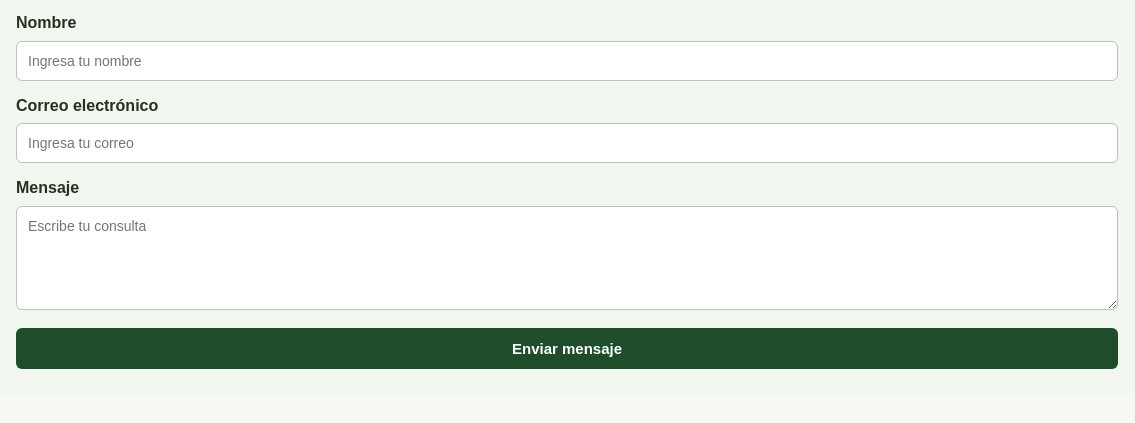
Test case: Formulario de Contacto NutriVida › Valida correctamente y limpia los campos
Type "Ana" into the field labelled "Nombre".
click(567, 61); type("Ana")  # box [16,41,1118,81]
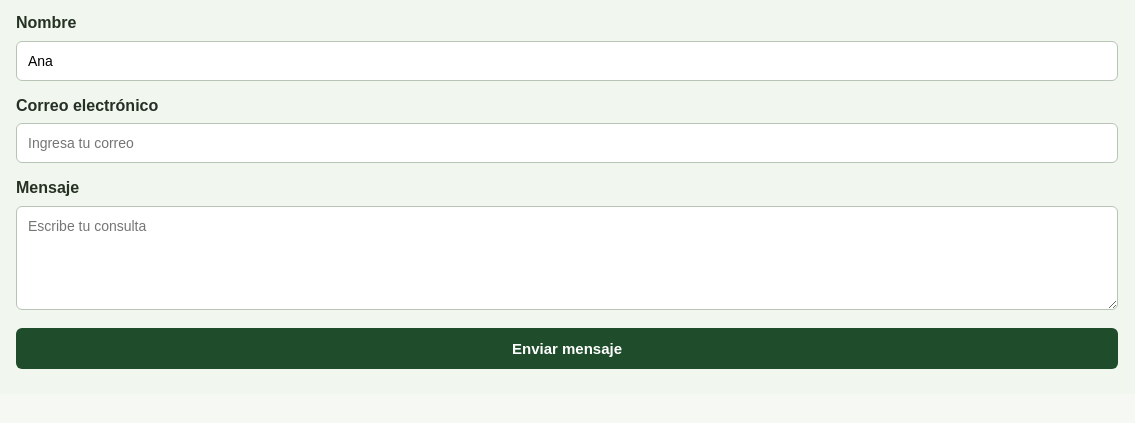
Type "ana@gmail.com" into the field labelled "Correo electrónico".
click(567, 143); type("ana@gmail.com")  # box [16,123,1118,163]
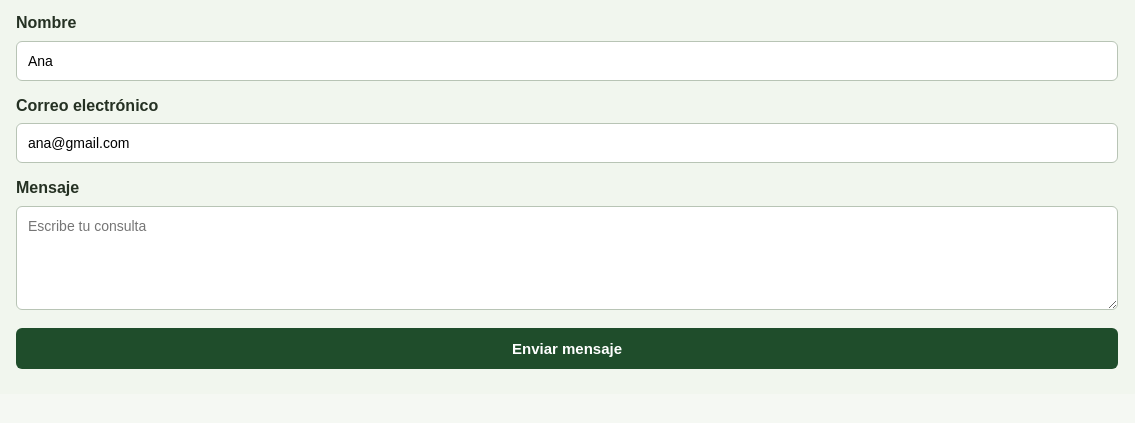
Type "Necesito información" into the text box labelled "Mensaje".
click(567, 258); type("Necesito información")  # box [16,206,1118,310]
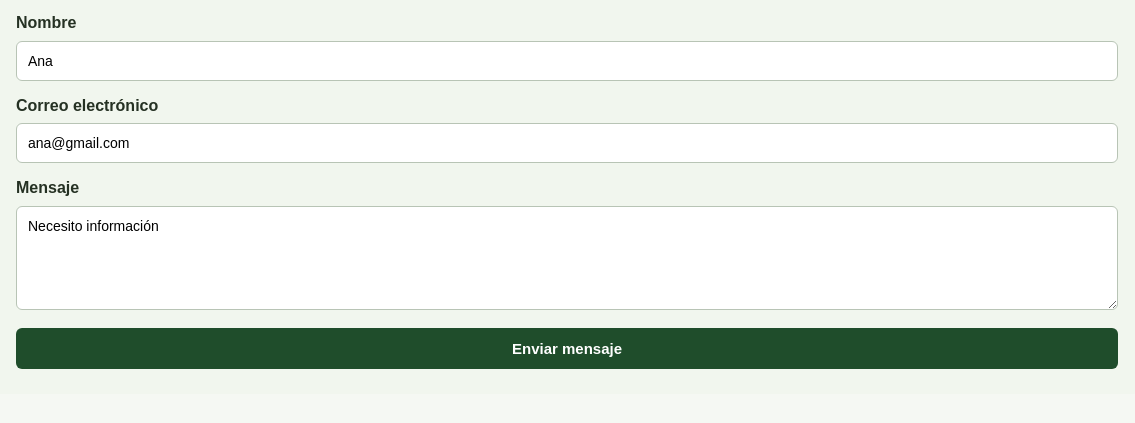
Click the button "Enviar mensaje".
click(567, 348)  # box [16,328,1118,369]
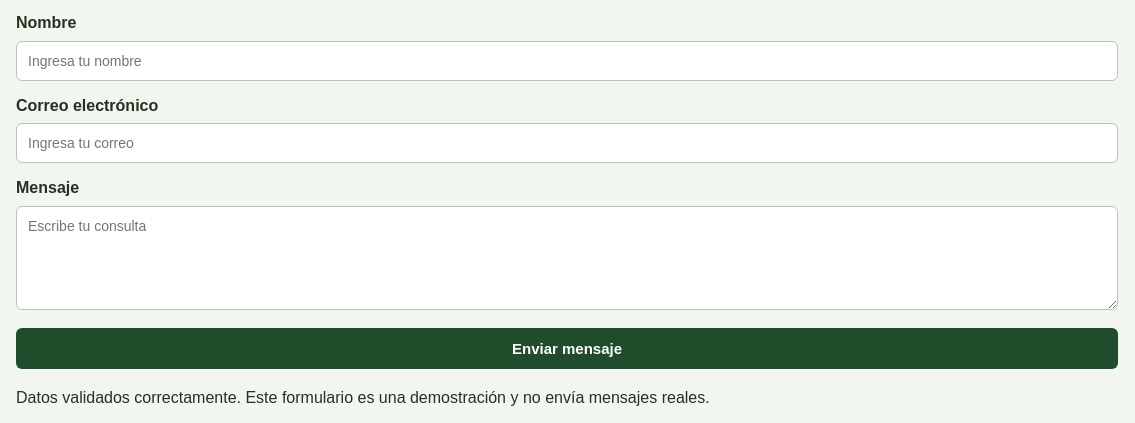
Check: the message shows "Datos validados correctamente.", box [16,389,710,406]
Check: the field labelled "Nombre" is empty, box [16,41,1118,81]
Check: the field labelled "Correo electrónico" is empty, box [16,123,1118,163]
